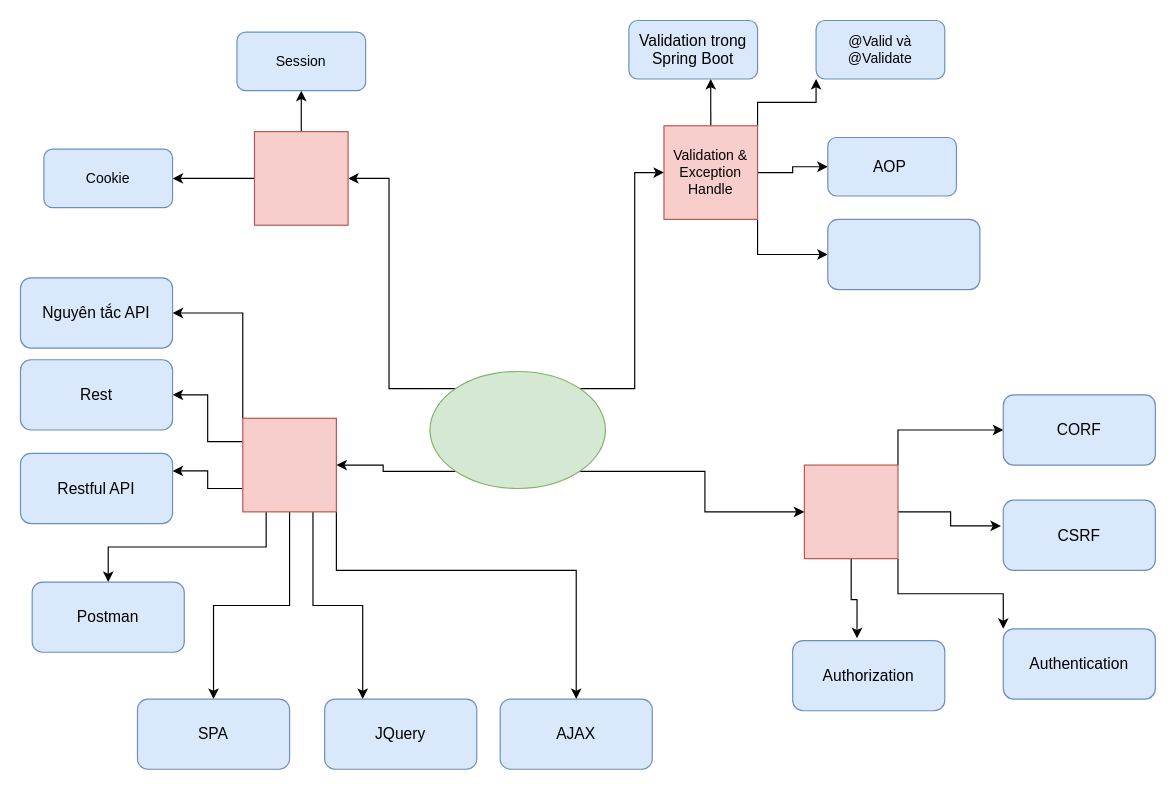
Some shapes in this 1176 by 790 pixel diagram are drawn without their labels. The shapes that lost their labels are listed below. From the top down, each one's centre as x and y in pixels, then its label:
(x=300, y=177): Spring boot
(x=903, y=254): @ControllerAdvise
(x=517, y=429): Mind Map Tuần 2
(x=289, y=464): Web Service và Restful
(x=850, y=511): Spring Security
